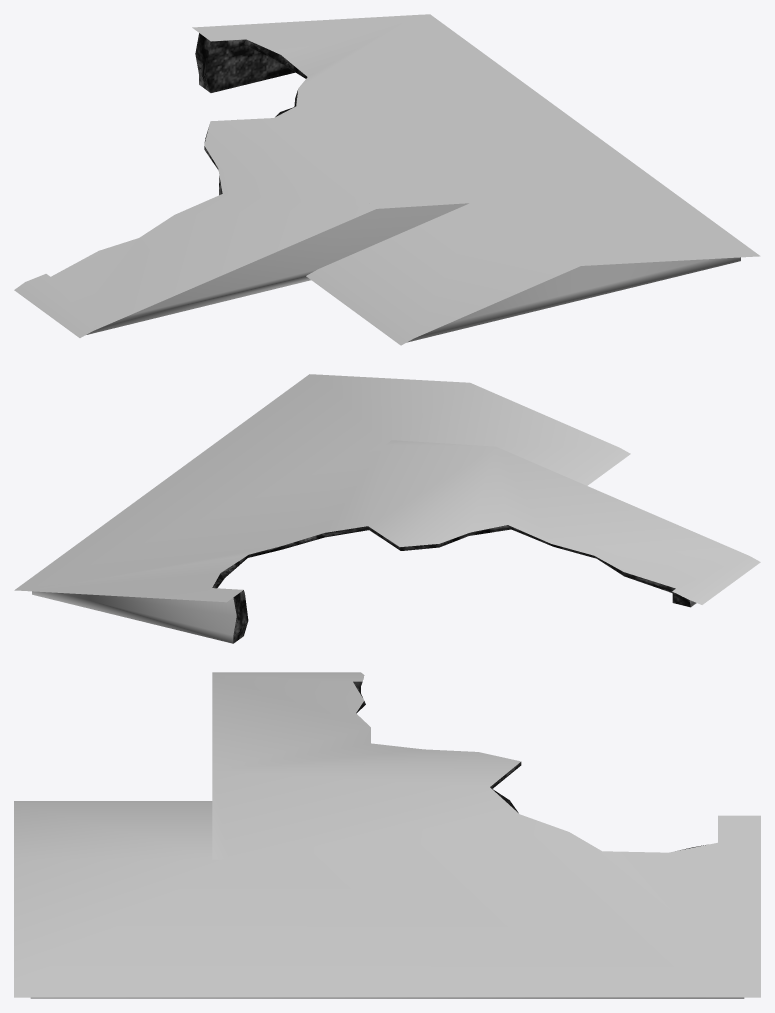
File: roof16.obj
The picture shows the model from 3 angles, top to bottom: view 1: azimuth 30°, elevation 25°; view 2: azimuth 150°, elevation 25°; view 3: azimuth 270°, elevation 25°; orthographic projection. The views are drawn at different scales.
Visible parts, largest first — view 1: PRLD07B.007; view 2: PRLD07B.007; view 3: PRLD07B.007.
Boxes of the visible parts, box(x1,y1,x2,y2) form: PRLD07B.007: box(14, 14, 760, 345); PRLD07B.007: box(14, 374, 760, 643); PRLD07B.007: box(14, 672, 760, 998).
Size of the model in its own units: 468 by 47.1 by 452.
